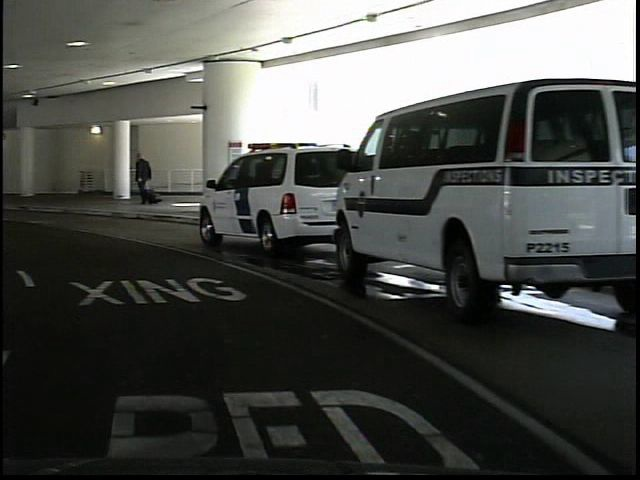person: (128, 149, 153, 208)
